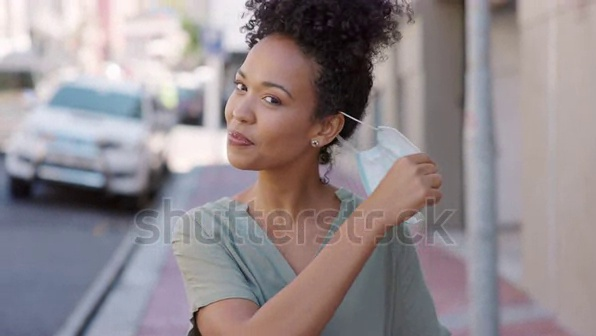No Mask: (213, 107, 303, 172)
